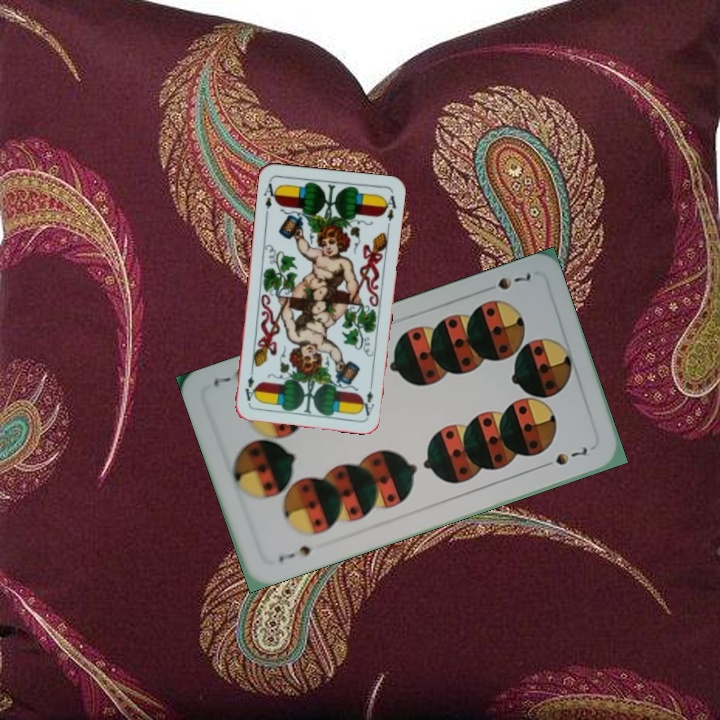EA: (260, 177, 280, 211), (358, 387, 376, 418)
S7: (493, 269, 534, 293), (274, 541, 314, 565)
